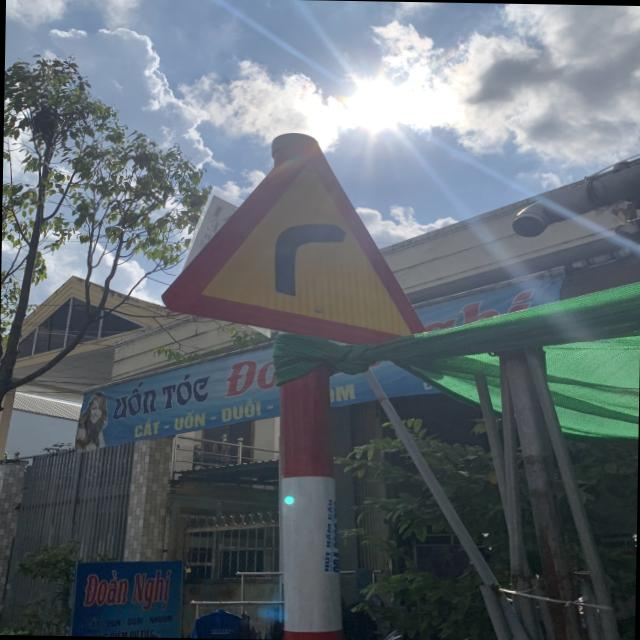Duong_Nguoi_Di_Bo_Cat_Ngang: (158, 133, 426, 348)
